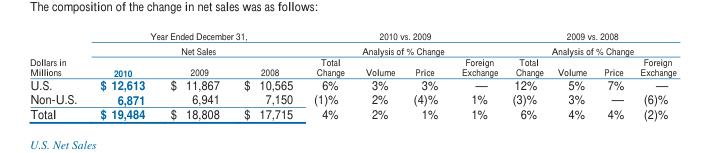table: (28, 28, 675, 122)
table column: (157, 28, 231, 122), (231, 28, 302, 122), (87, 28, 157, 122), (28, 28, 87, 122), (449, 28, 504, 122), (302, 28, 354, 122), (354, 28, 403, 122), (403, 28, 449, 122), (504, 28, 549, 122), (549, 28, 594, 122), (631, 28, 675, 122), (594, 28, 631, 122)
table column header: (28, 28, 675, 77)
table row: (28, 28, 675, 55), (28, 55, 675, 77), (28, 106, 675, 122), (28, 91, 675, 106), (28, 77, 675, 91)
table spanning cell: (87, 28, 302, 55), (302, 28, 504, 55), (504, 28, 675, 55), (28, 28, 87, 77)
